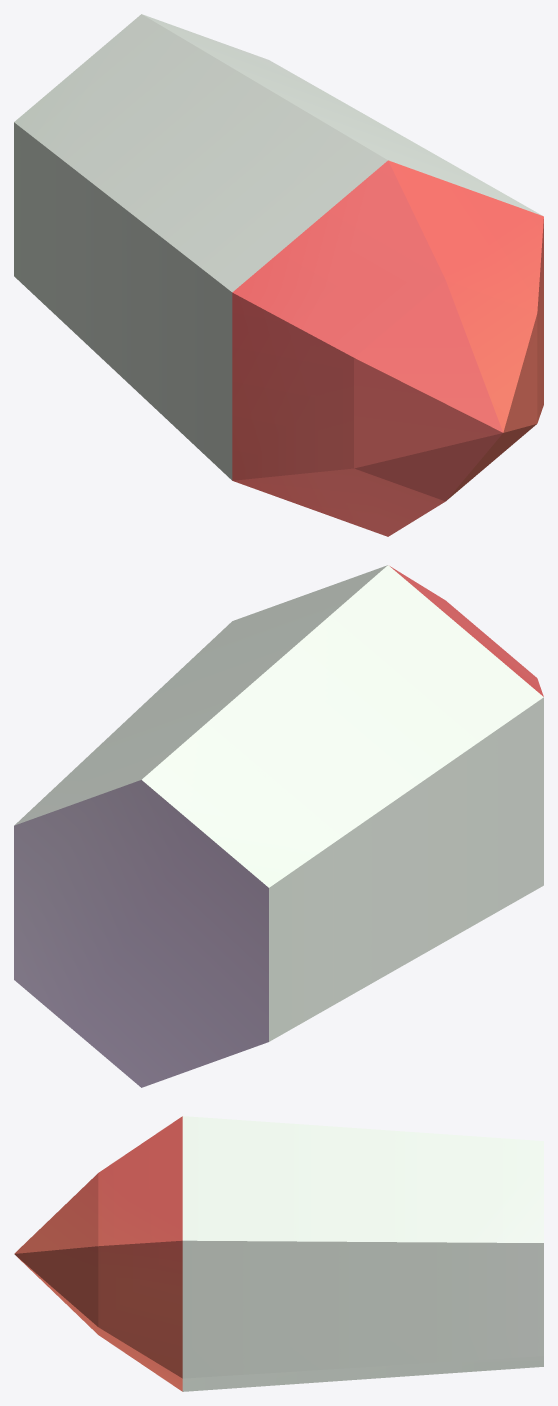
File: Bullet00.FBX
3 renders of one model, top to bottom at view 1: azimuth 30°, elevation 25°; view 2: azimuth 150°, elevation 25°; view 3: azimuth 270°, elevation 25°, orthographic. The views are drawn at different scales.
Visible parts, largest first — view 1: Bullet00; view 2: Bullet00; view 3: Bullet00.
Part boxes in pixels (x1,y1,x2,y2): Bullet00: (14,14,543,536); Bullet00: (14,565,543,1087); Bullet00: (14,1116,543,1391).
Size of the model in its own units: 11.59 by 23.3 by 13.38.
